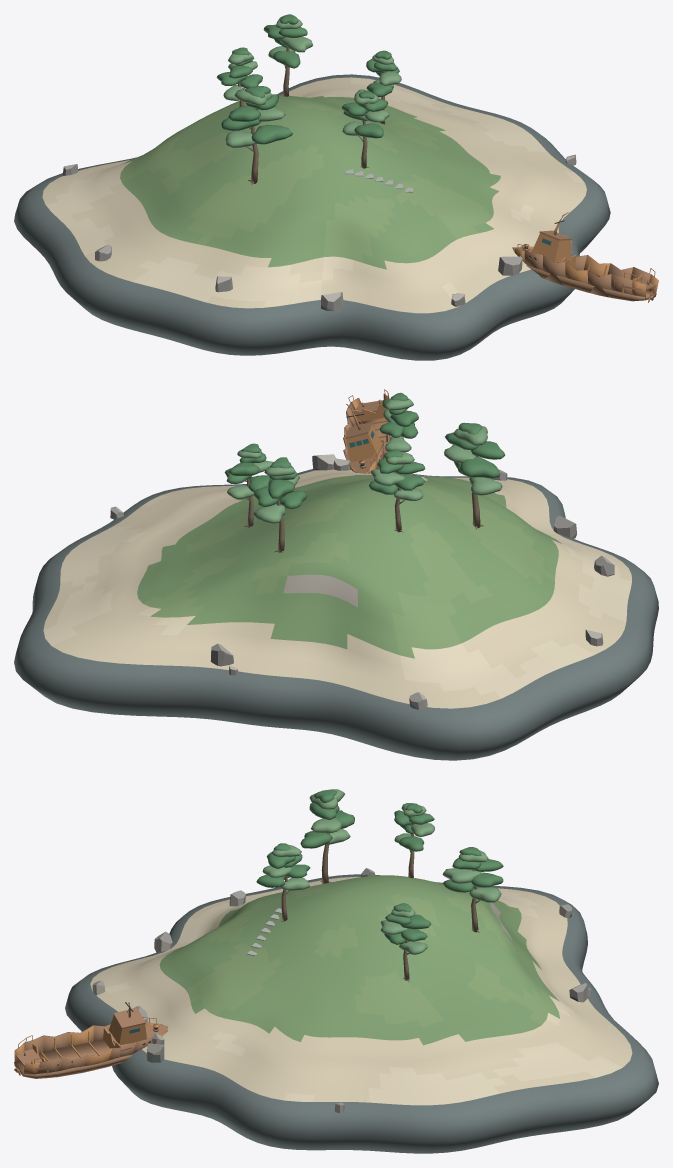
Rendered from ENV_WreckCove.fbx.
3 views of the same model, one above another, from view 1: azimuth 30°, elevation 25°; view 2: azimuth 150°, elevation 25°; view 3: azimuth 270°, elevation 25° (orthographic). The views are drawn at different scales.
Parts seen in each view (by area): view 1: TerrainShell, BeachedWreck_Visual, CoastalPine_2_Visual, Decor_Visual.001, CoastalPine_4_Visual, CoastalPine_3_Visual, CoastalPine_0_Visual, CoastalPine_1_Visual; view 2: TerrainShell, CoastalPine_2_Visual, BeachedWreck_Visual, Decor_Visual.001, CoastalPine_3_Visual, CoastalPine_0_Visual, CoastalPine_1_Visual, CoastalPine_4_Visual; view 3: TerrainShell, BeachedWreck_Visual, CoastalPine_3_Visual, CoastalPine_2_Visual, Decor_Visual.001, CoastalPine_4_Visual, CoastalPine_1_Visual, CoastalPine_0_Visual.
Part boxes in pixels (x1=…): TerrainShell: x1=14, y1=74, x2=610, y2=360; BeachedWreck_Visual: x1=512, y1=212, x2=658, y2=302; CoastalPine_2_Visual: x1=221, y1=86, x2=293, y2=184; Decor_Visual.001: x1=62, y1=154, x2=576, y2=311; CoastalPine_4_Visual: x1=342, y1=89, x2=389, y2=168; CoastalPine_3_Visual: x1=263, y1=14, x2=312, y2=96; CoastalPine_0_Visual: x1=216, y1=47, x2=262, y2=106; CoastalPine_1_Visual: x1=366, y1=50, x2=401, y2=124; TerrainShell: x1=14, y1=469, x2=658, y2=760; CoastalPine_2_Visual: x1=444, y1=422, x2=505, y2=529; BeachedWreck_Visual: x1=343, y1=389, x2=391, y2=473; Decor_Visual.001: x1=110, y1=454, x2=614, y2=709; CoastalPine_3_Visual: x1=253, y1=457, x2=307, y2=552; CoastalPine_0_Visual: x1=369, y1=449, x2=425, y2=532; CoastalPine_1_Visual: x1=224, y1=443, x2=273, y2=527; CoastalPine_4_Visual: x1=379, y1=392, x2=418, y2=452; TerrainShell: x1=65, y1=874, x2=658, y2=1153; BeachedWreck_Visual: x1=14, y1=1002, x2=168, y2=1078; CoastalPine_3_Visual: x1=442, y1=847, x2=503, y2=932; CoastalPine_2_Visual: x1=300, y1=789, x2=354, y2=883; Decor_Visual.001: x1=92, y1=868, x2=591, y2=1113; CoastalPine_4_Visual: x1=256, y1=843, x2=310, y2=921; CoastalPine_1_Visual: x1=380, y1=903, x2=431, y2=981; CoastalPine_0_Visual: x1=394, y1=803, x2=434, y2=878.
Size of the model in its own units: 2770 by 1048 by 3016.
